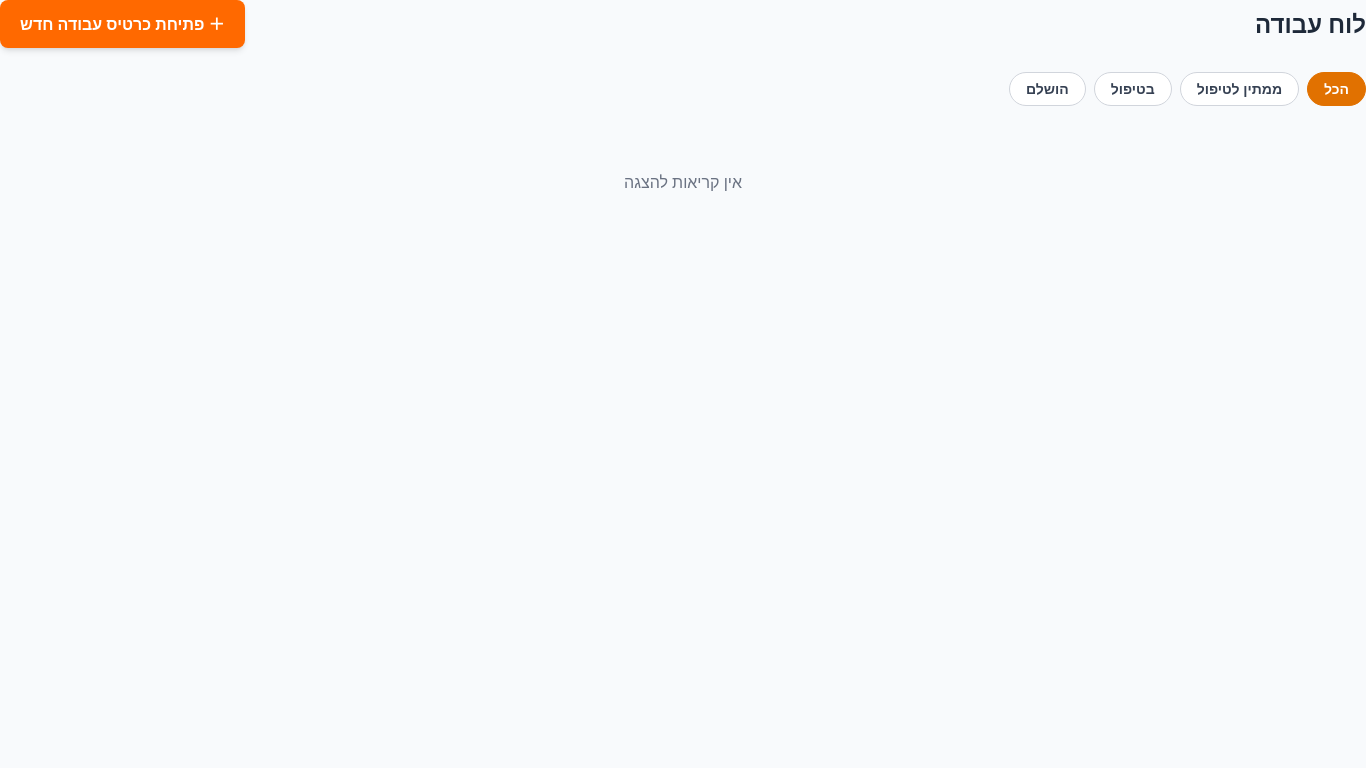
Test: New Ticket modal on the Work Board › opens the modal with the Hebrew title and the board stays mounted behind
Click the button "＋ פתיחת כרטיס עבודה חדש".
click(122, 24)  # box [0,0,244,48]
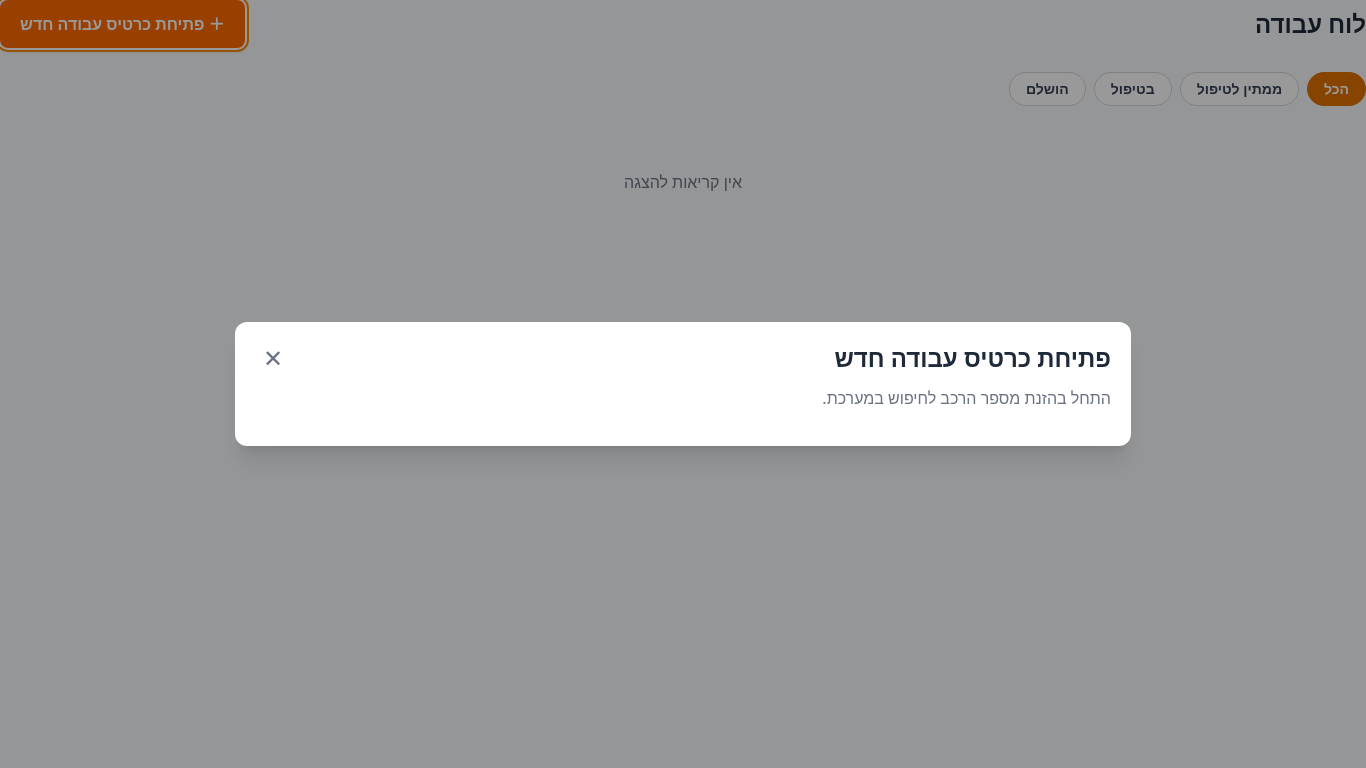
expect the heading "לוח עבודה" is shown: met, box [1255,8,1365,40]
expect the heading "פתיחת כרטיס עבודה חדש" is shown: met, box [834,342,1111,374]
